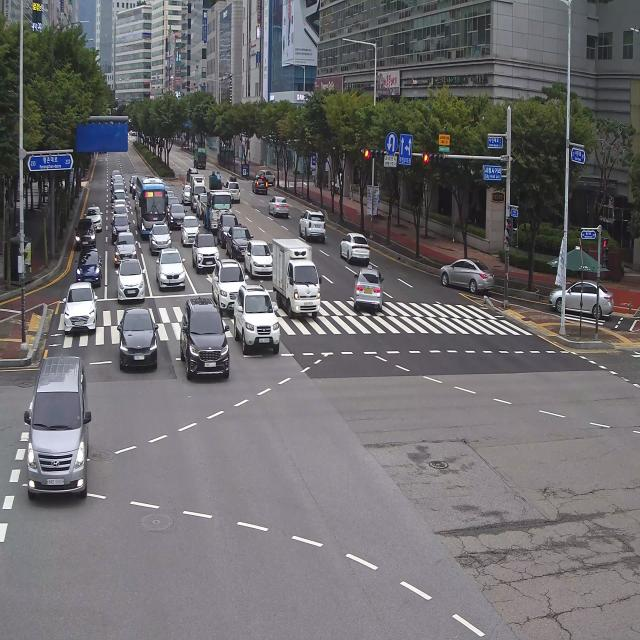Bus: (133, 174, 170, 237)
Car: (25, 351, 96, 504), (176, 295, 232, 381), (546, 268, 615, 328), (431, 244, 499, 300), (233, 280, 282, 355), (115, 306, 164, 375), (61, 280, 100, 336), (208, 258, 250, 309), (354, 257, 387, 315), (115, 253, 148, 304), (72, 242, 107, 289), (154, 246, 190, 291), (242, 233, 276, 276), (340, 229, 374, 268), (192, 228, 220, 274), (71, 215, 100, 250), (300, 208, 328, 244), (113, 230, 138, 270), (147, 220, 175, 255), (224, 224, 250, 258), (179, 213, 202, 246), (109, 216, 133, 246), (167, 203, 189, 232), (216, 210, 236, 240), (225, 174, 242, 208), (268, 194, 290, 219), (84, 202, 102, 232), (250, 174, 270, 198), (259, 168, 279, 182), (196, 194, 208, 217), (112, 207, 128, 224), (167, 193, 180, 210), (185, 163, 198, 179), (181, 183, 191, 203), (132, 173, 140, 197), (113, 199, 128, 210), (128, 174, 135, 194)
Truck: (268, 234, 322, 320), (200, 186, 233, 234), (190, 172, 206, 210), (191, 144, 207, 174), (208, 170, 224, 196)
